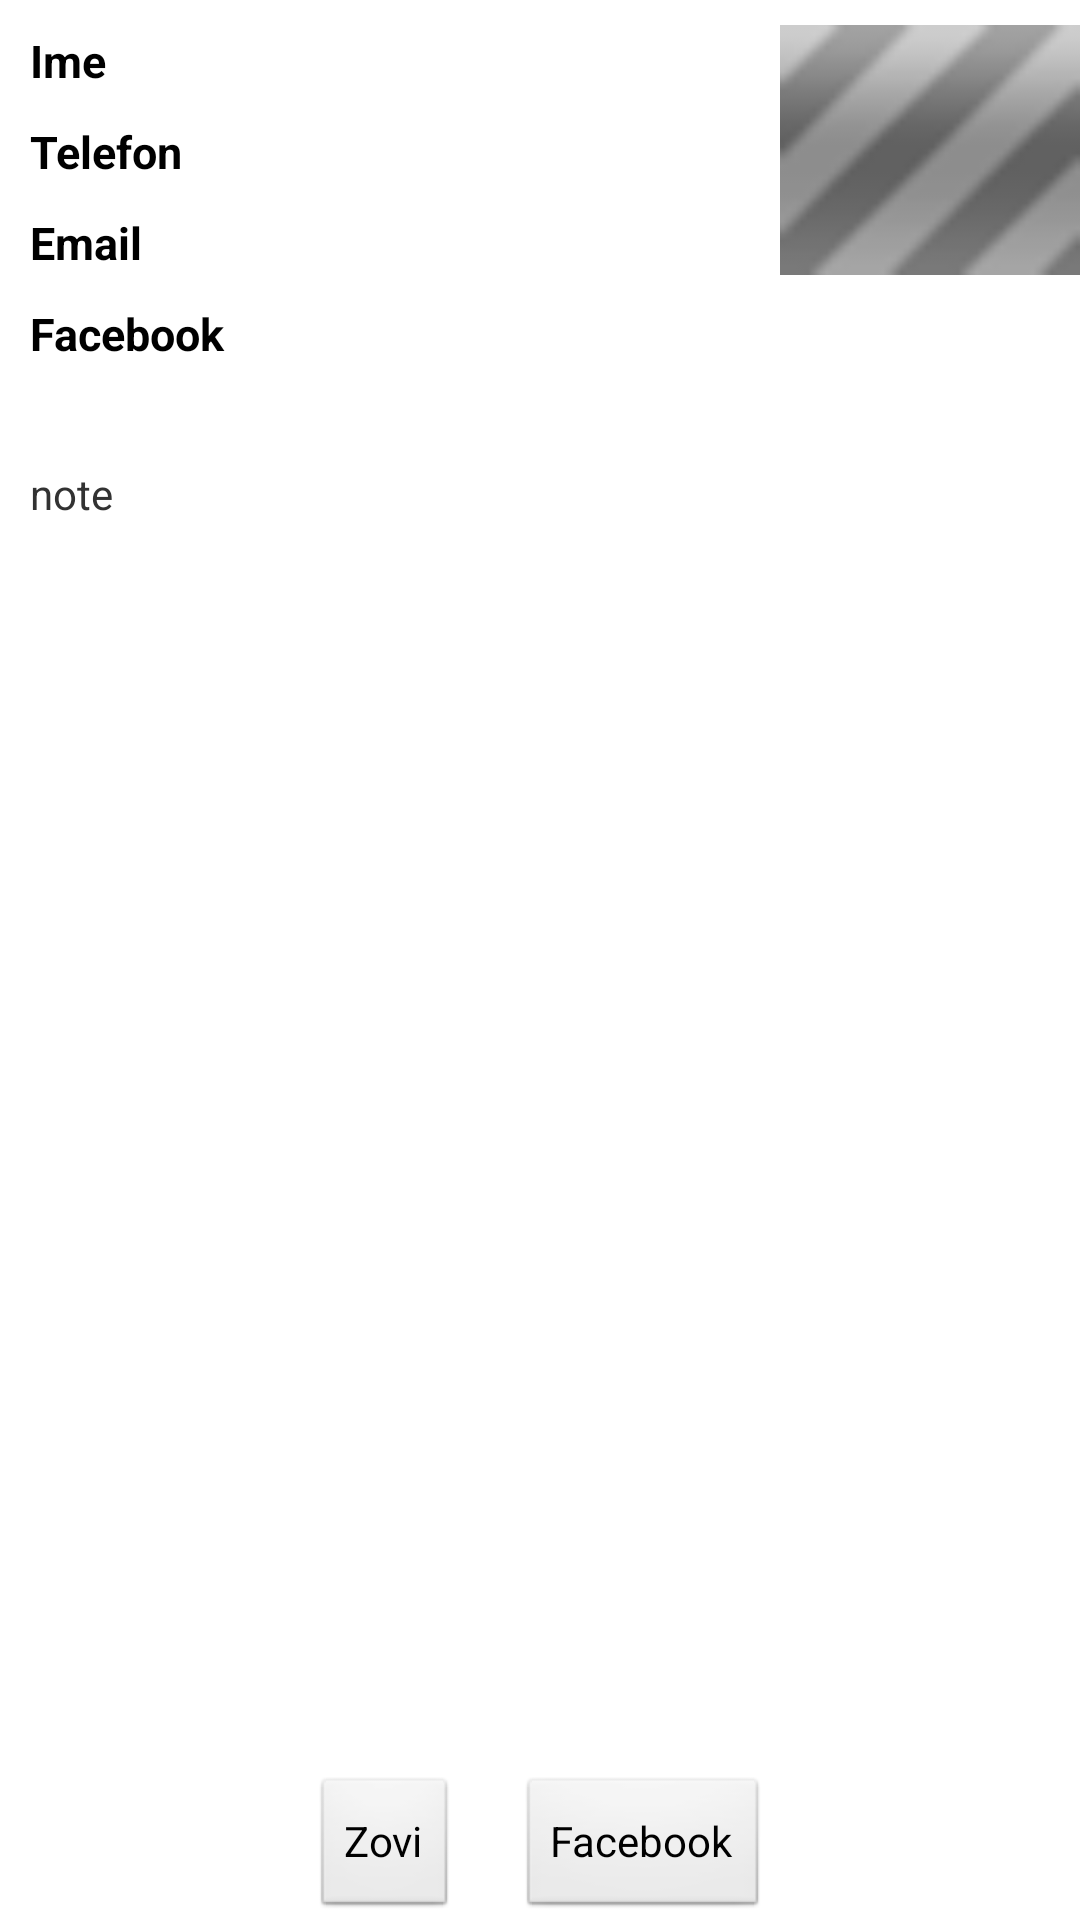

Point at icon controls on the screen. Image size 1080px×1920px, points as [x,y].
progress indeterminate horizontal: [930,150]
